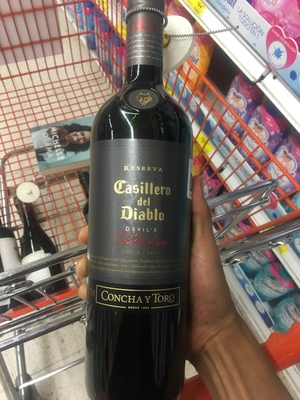casillero del diablo devils collection rojo: (83, 3, 196, 400)
